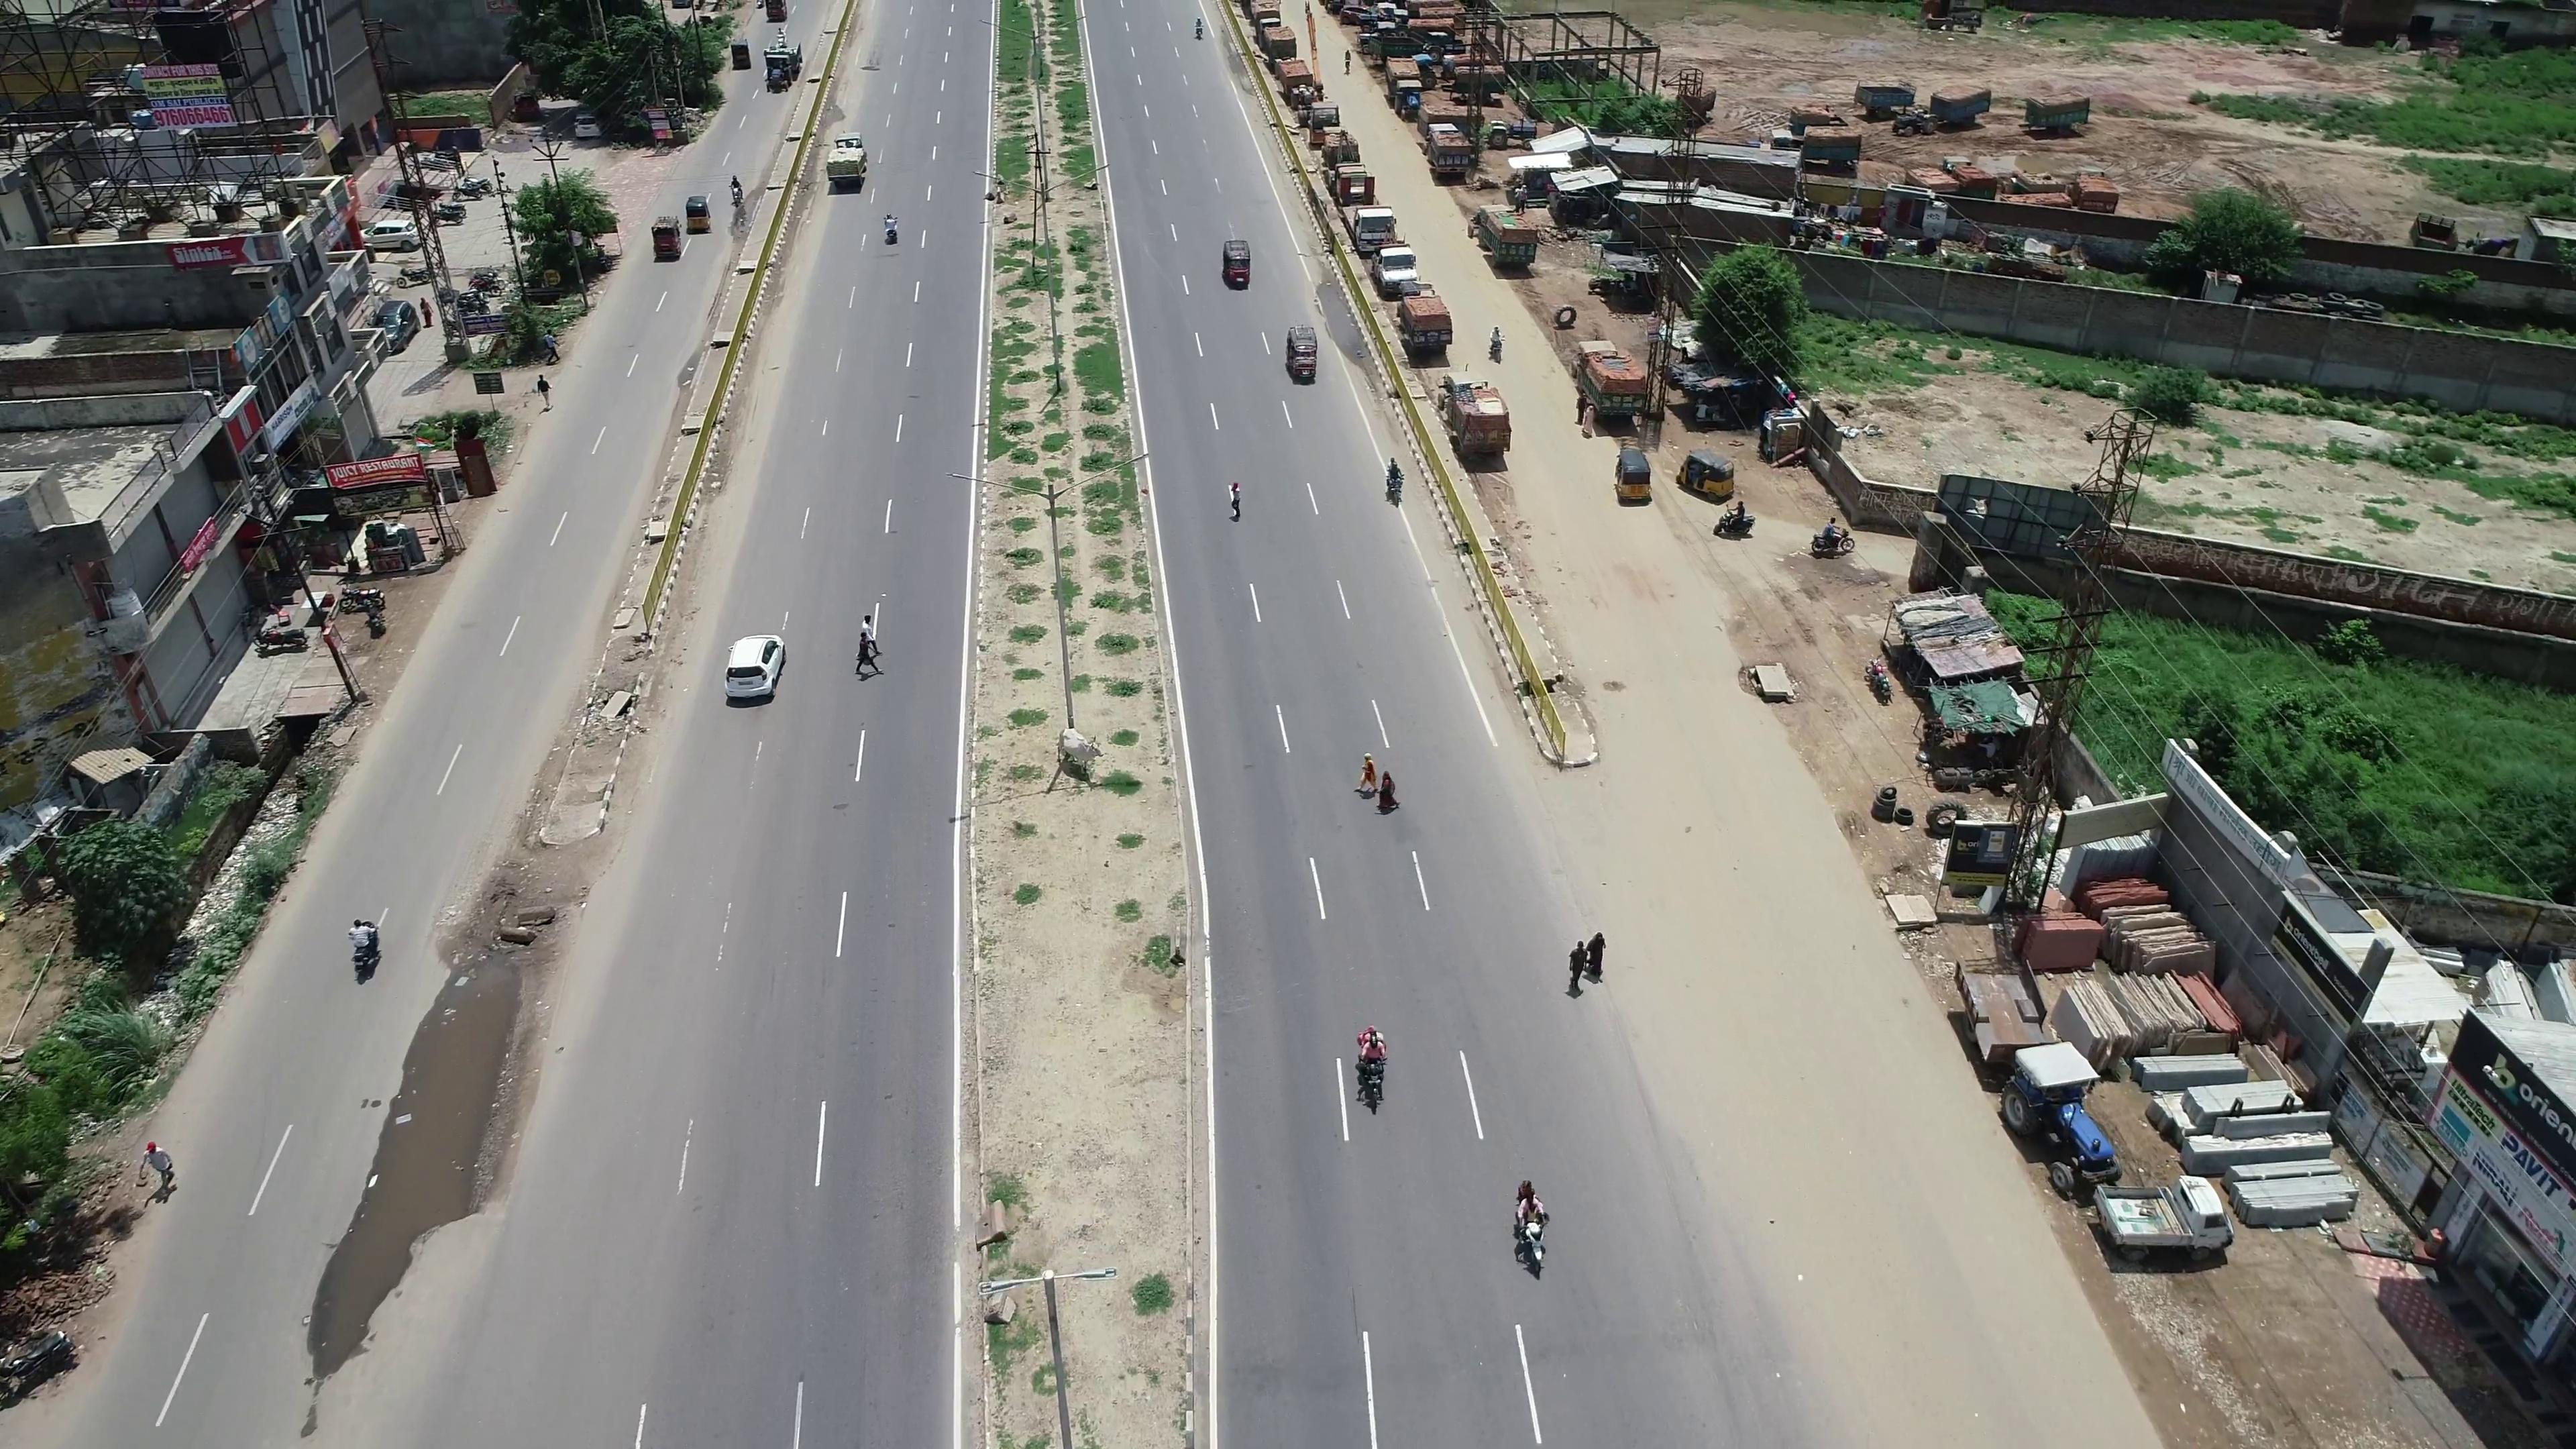Waterlogging: (299, 975, 513, 1369)
